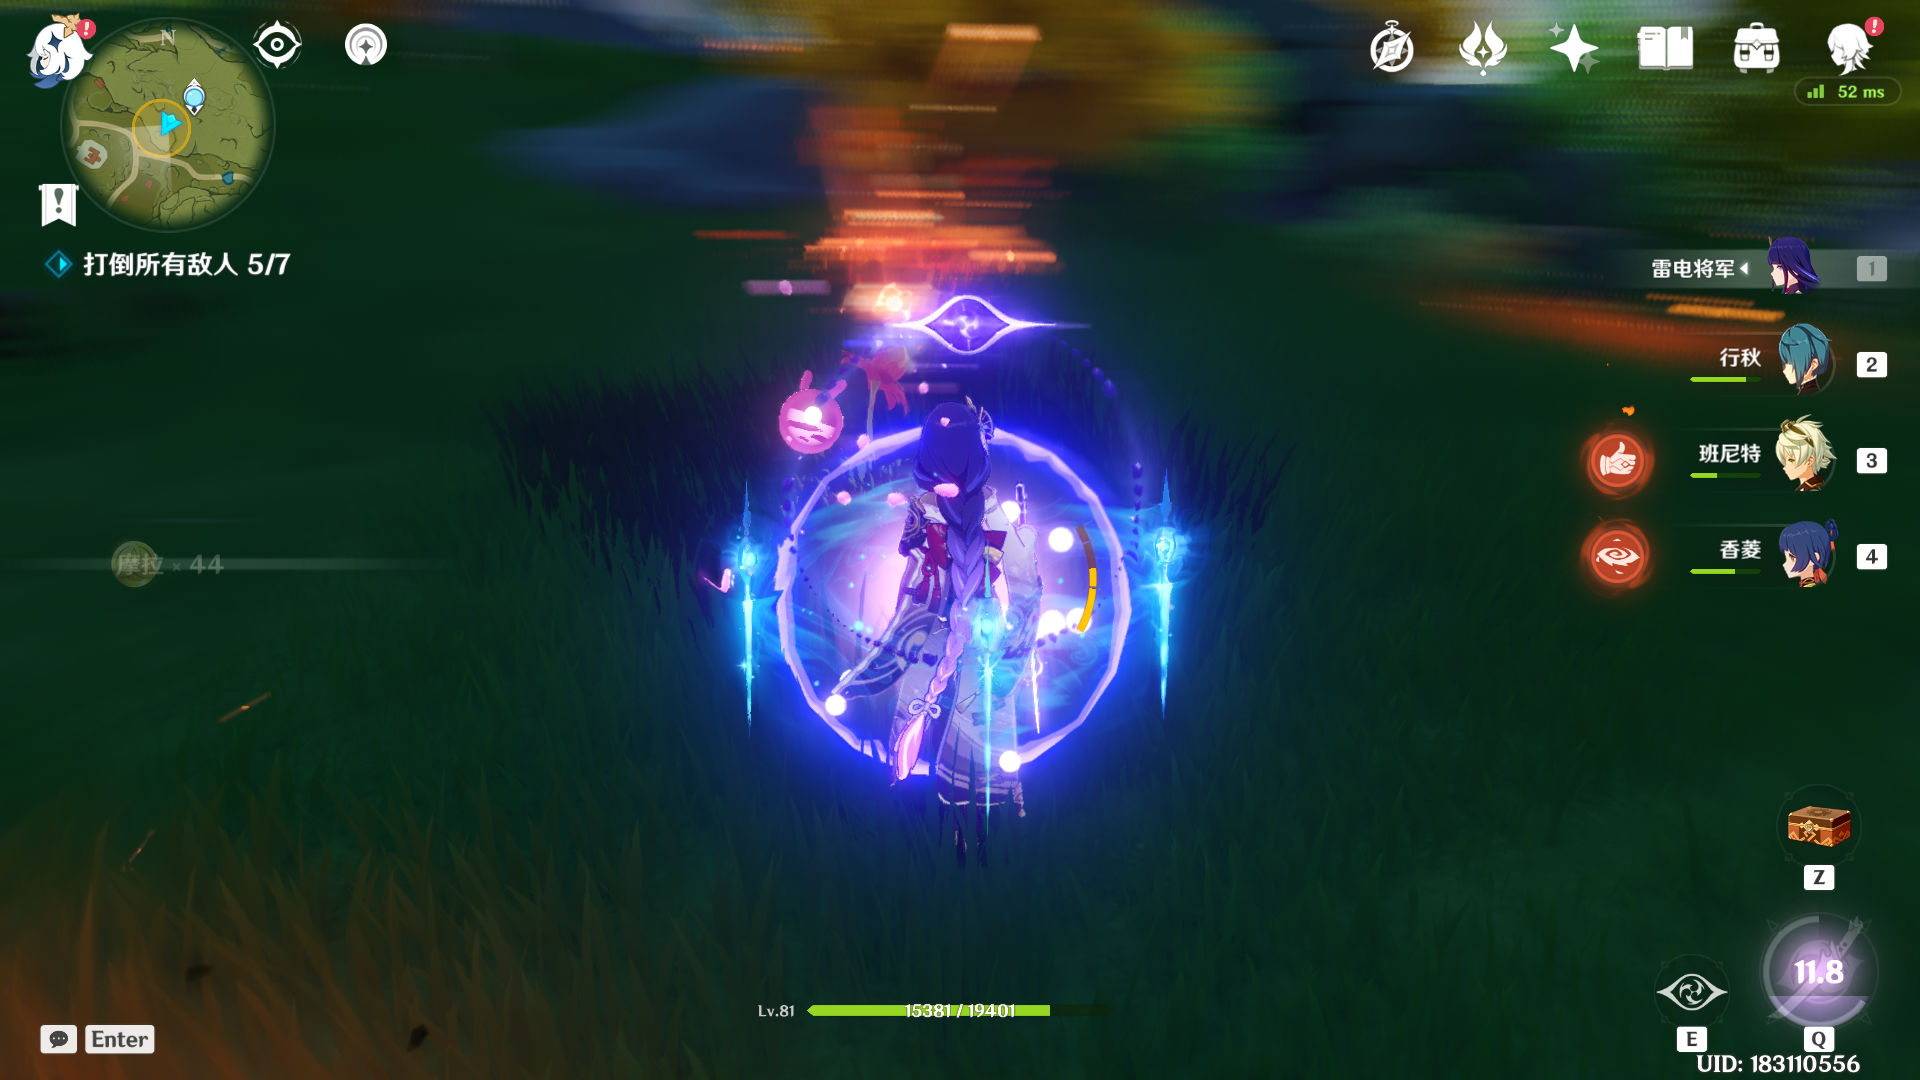character: (791, 334, 1149, 881)
